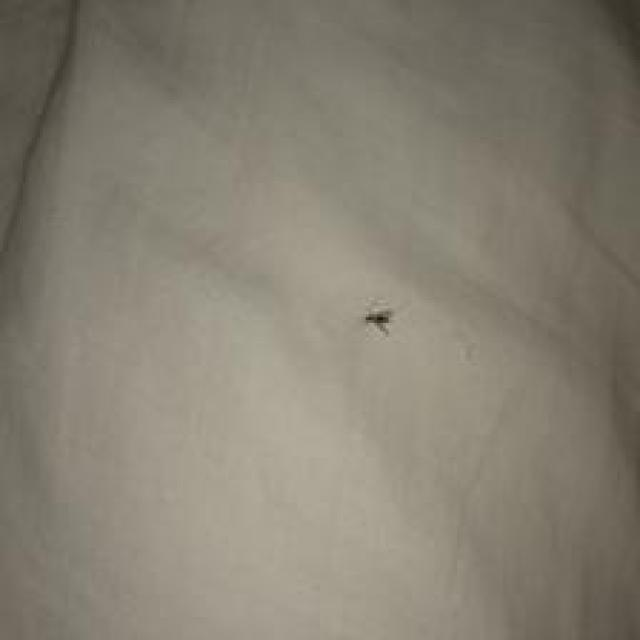Culex: (364, 307, 393, 336)
